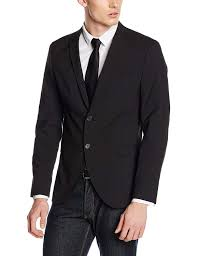F_M_suit jacket: (28, 19, 175, 213)
F_tie: (83, 37, 100, 96)
